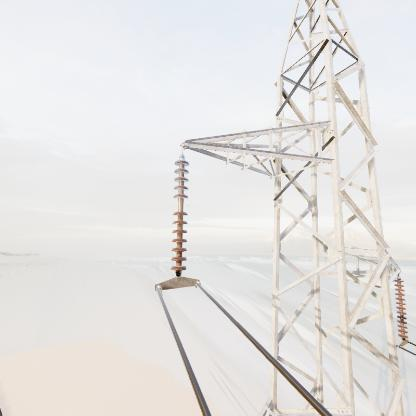insulator: (171, 152, 192, 277), (393, 277, 411, 345)
